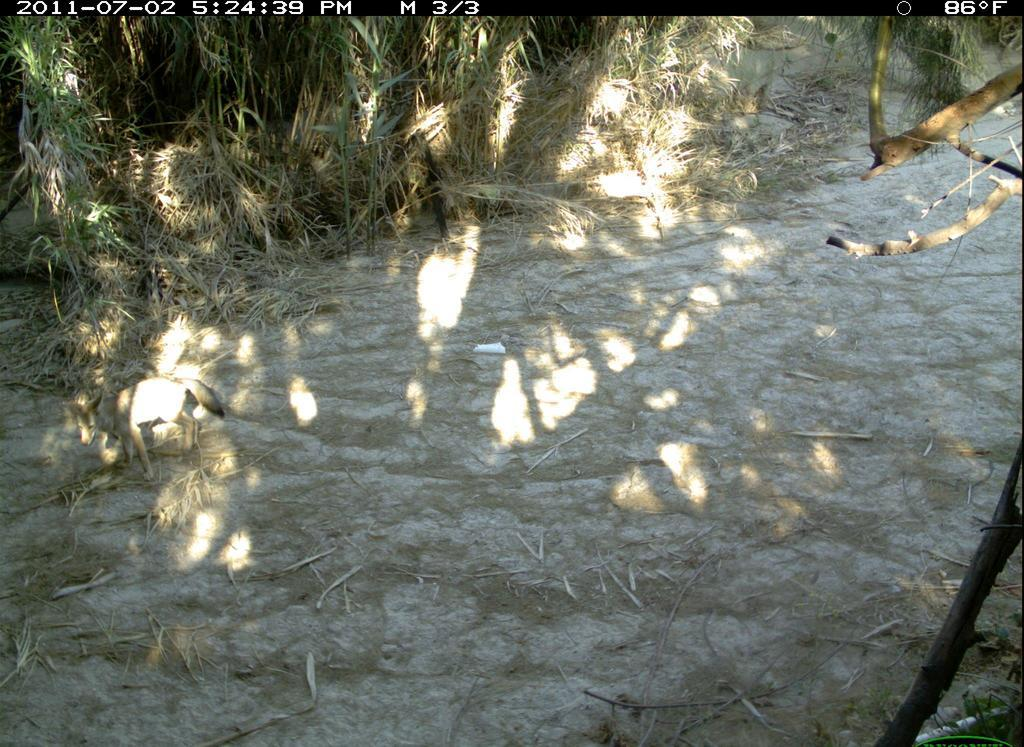coyote: (65, 370, 235, 486)
